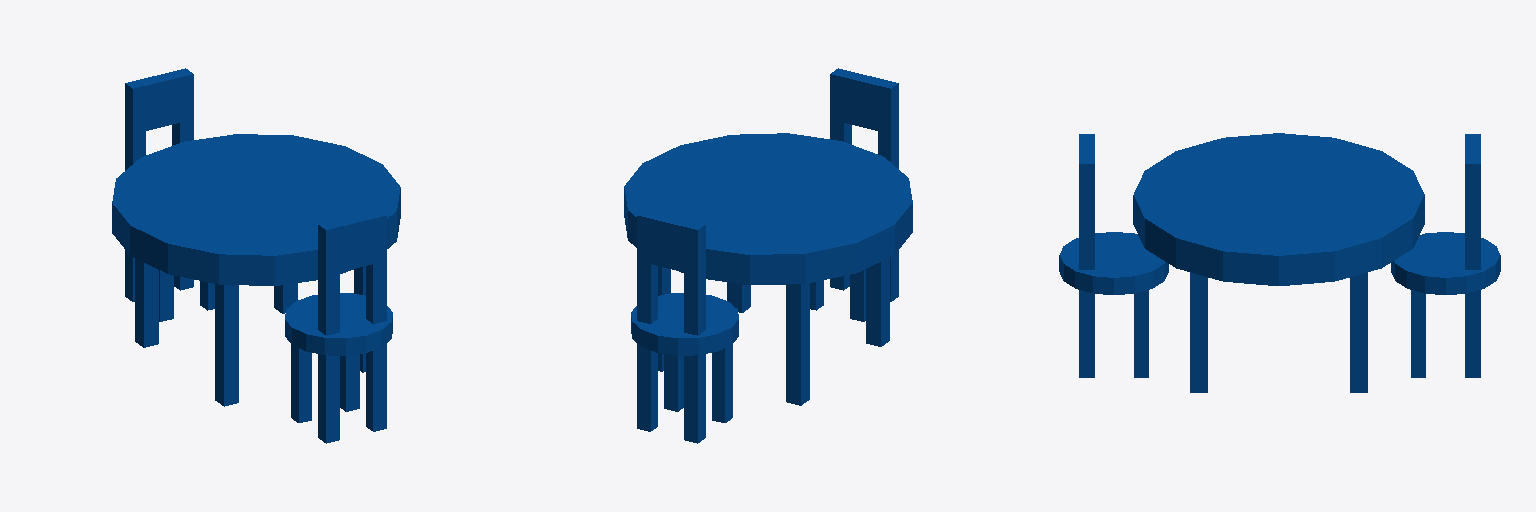
Rendered from TableChairs.obj.
3 views of the same model, side by side, from view 1: azimuth 30°, elevation 25°; view 2: azimuth 150°, elevation 25°; view 3: azimuth 270°, elevation 25° (orthographic).
Visible parts, largest first — view 1: Table_Cylinder, Chair2_Cylinder.002, Chair_Cylinder.001; view 2: Table_Cylinder, Chair_Cylinder.001, Chair2_Cylinder.002; view 3: Table_Cylinder, Chair_Cylinder.001, Chair2_Cylinder.002.
Part boxes in pixels (x1,y1,x2,y2): Table_Cylinder: (112,134,400,406); Chair2_Cylinder.002: (285,210,392,443); Chair_Cylinder.001: (125,68,214,321); Table_Cylinder: (624,133,912,405); Chair_Cylinder.001: (631,210,738,443); Chair2_Cylinder.002: (810,68,898,321); Table_Cylinder: (1133,133,1424,392); Chair_Cylinder.001: (1391,134,1500,377); Chair2_Cylinder.002: (1059,134,1168,377).
Bounding box in the file's own units: 3.63 × 2.94 × 5.5.